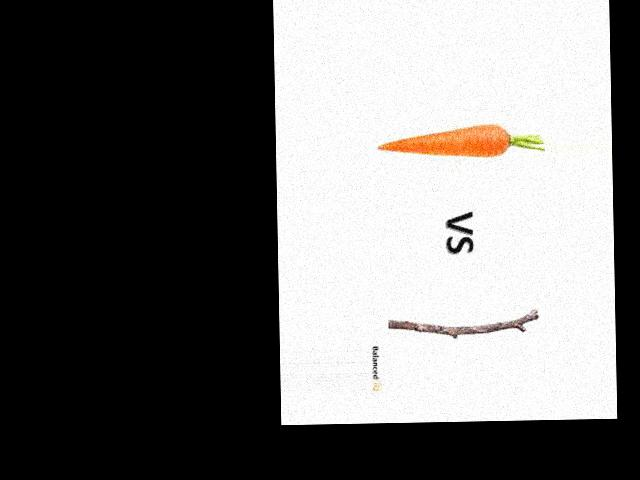carrot: (373, 117, 514, 168)
